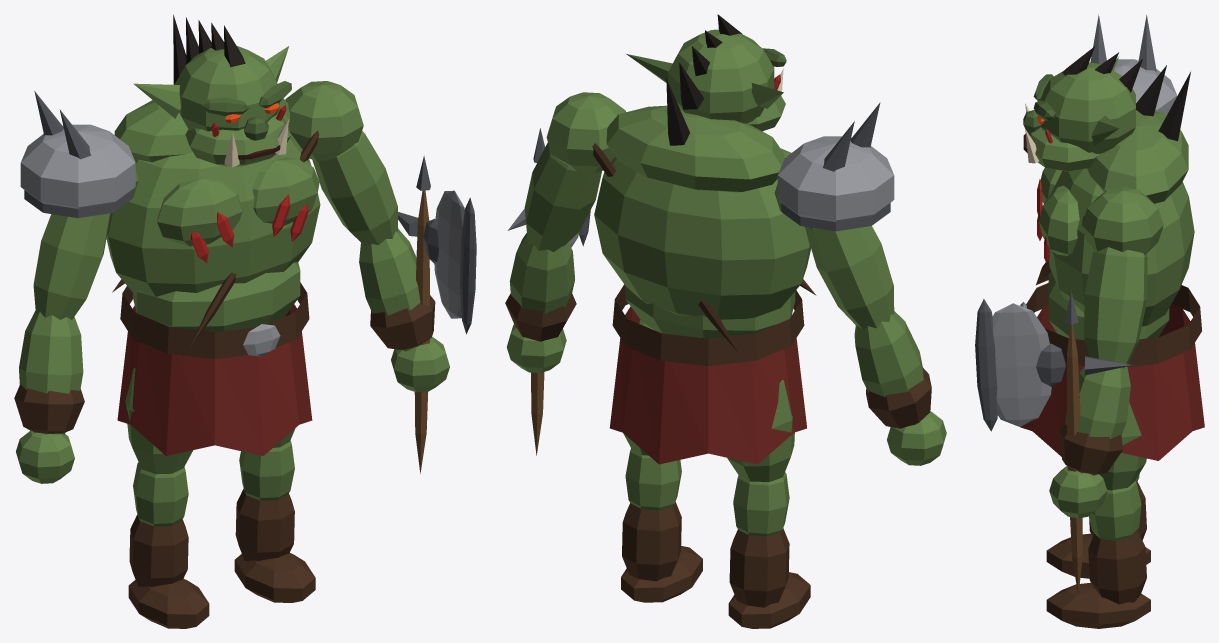
File: Orc.obj
3 views of the same model, side by side, from view 1: azimuth 30°, elevation 25°; view 2: azimuth 150°, elevation 25°; view 3: azimuth 270°, elevation 25° (orthographic). The views are drawn at different scales.
Visible parts, largest first — view 1: Orc; view 2: Orc; view 3: Orc.
Boxes of the visible parts, x1,y1,x2,y2 form: Orc: [14, 14, 476, 628]; Orc: [505, 14, 946, 628]; Orc: [975, 14, 1204, 628].
Size of the model in its own units: 1.37 by 1.78 by 0.6716.
1 material, 1 textured.
